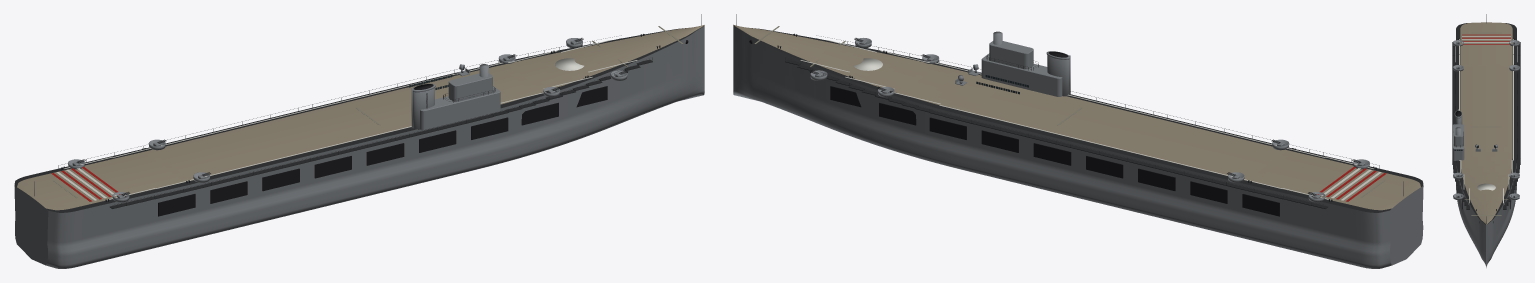
Rendered from junyo.glb.
The picture shows the model from 3 angles, left to right: view 1: azimuth 30°, elevation 25°; view 2: azimuth 150°, elevation 25°; view 3: azimuth 270°, elevation 25°; orthographic projection. The views are drawn at different scales.
Parts seen in each view (by area): view 1: junyo; view 2: junyo; view 3: junyo.
Part boxes in pixels (x1,y1,x2,y2): junyo: (14,14,704,268); junyo: (733,14,1423,268); junyo: (1452,14,1520,267).
Size of the model in its own units: 219 by 32.5 by 30.69.
